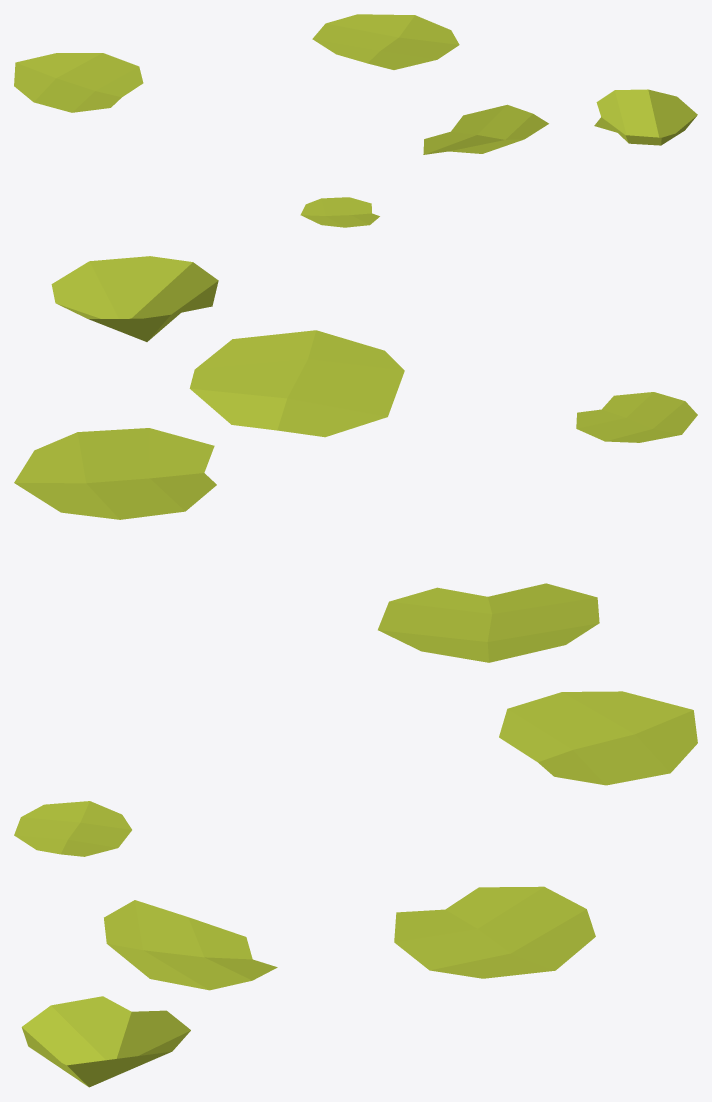
Rendered from Lilly_leaves_4.fbx.
The picture shows the model from 3 angles, top to bottom: view 1: azimuth 30°, elevation 25°; view 2: azimuth 150°, elevation 25°; view 3: azimuth 270°, elevation 25°; orthographic projection. The views are drawn at different scales.
Visible parts, largest first — view 1: Lilly_leaves_4; view 2: Lilly_leaves_4; view 3: Lilly_leaves_4.
Boxes of the visible parts, x1,y1,x2,y2 form: Lilly_leaves_4: (14,14,697,227); Lilly_leaves_4: (14,256,697,662); Lilly_leaves_4: (14,691,697,1087).
Bounding box in the file's own units: 4.38 × 0.3495 × 3.53.
